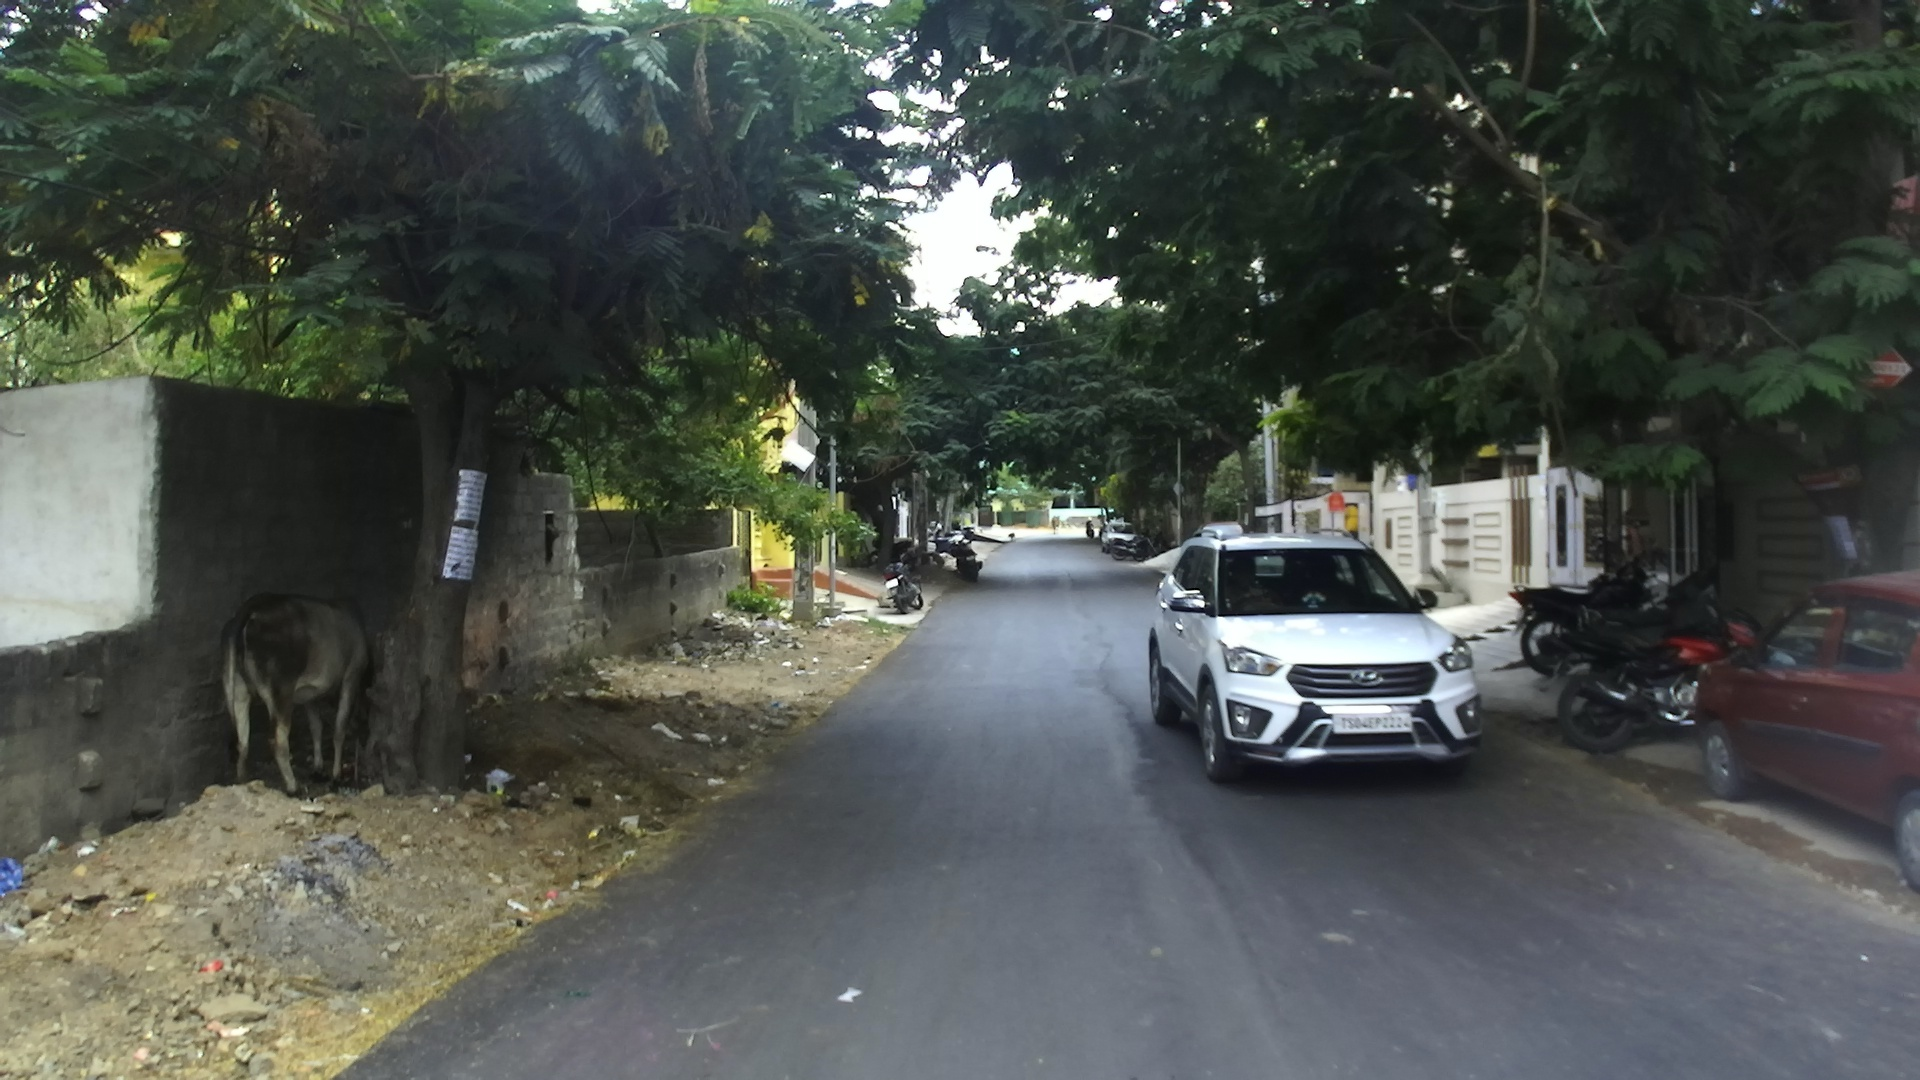vehicle: (1145, 530, 1484, 781), (1689, 570, 1919, 901), (924, 525, 986, 578), (1095, 514, 1141, 558)
